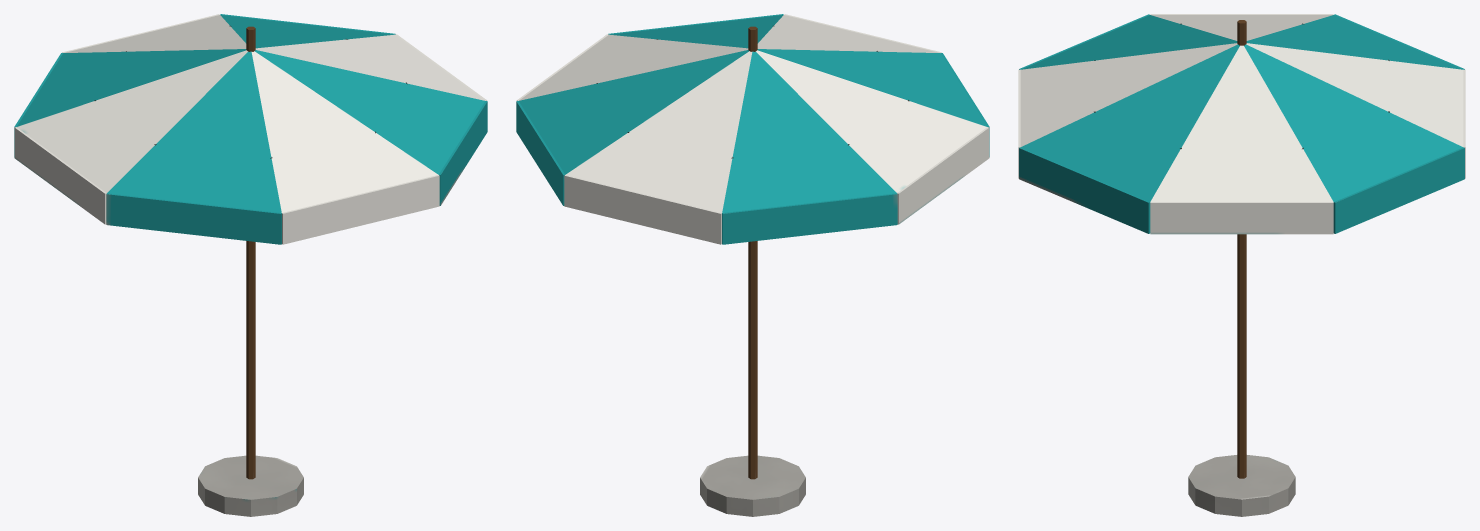
Rendered from slunecnik_67941f14.glb.
3 renders of one model, left to right at view 1: azimuth 30°, elevation 25°; view 2: azimuth 150°, elevation 25°; view 3: azimuth 270°, elevation 25°, orthographic.
Visible parts, largest first — view 1: dum; view 2: dum; view 3: dum.
Boxes of the visible parts, <box> form: dum: <box>14,14,487,516</box>; dum: <box>516,14,989,516</box>; dum: <box>1018,14,1465,516</box>.
Bounding box in the file's own units: 2.33 × 2.71 × 2.33.
1 material, 1 textured.
